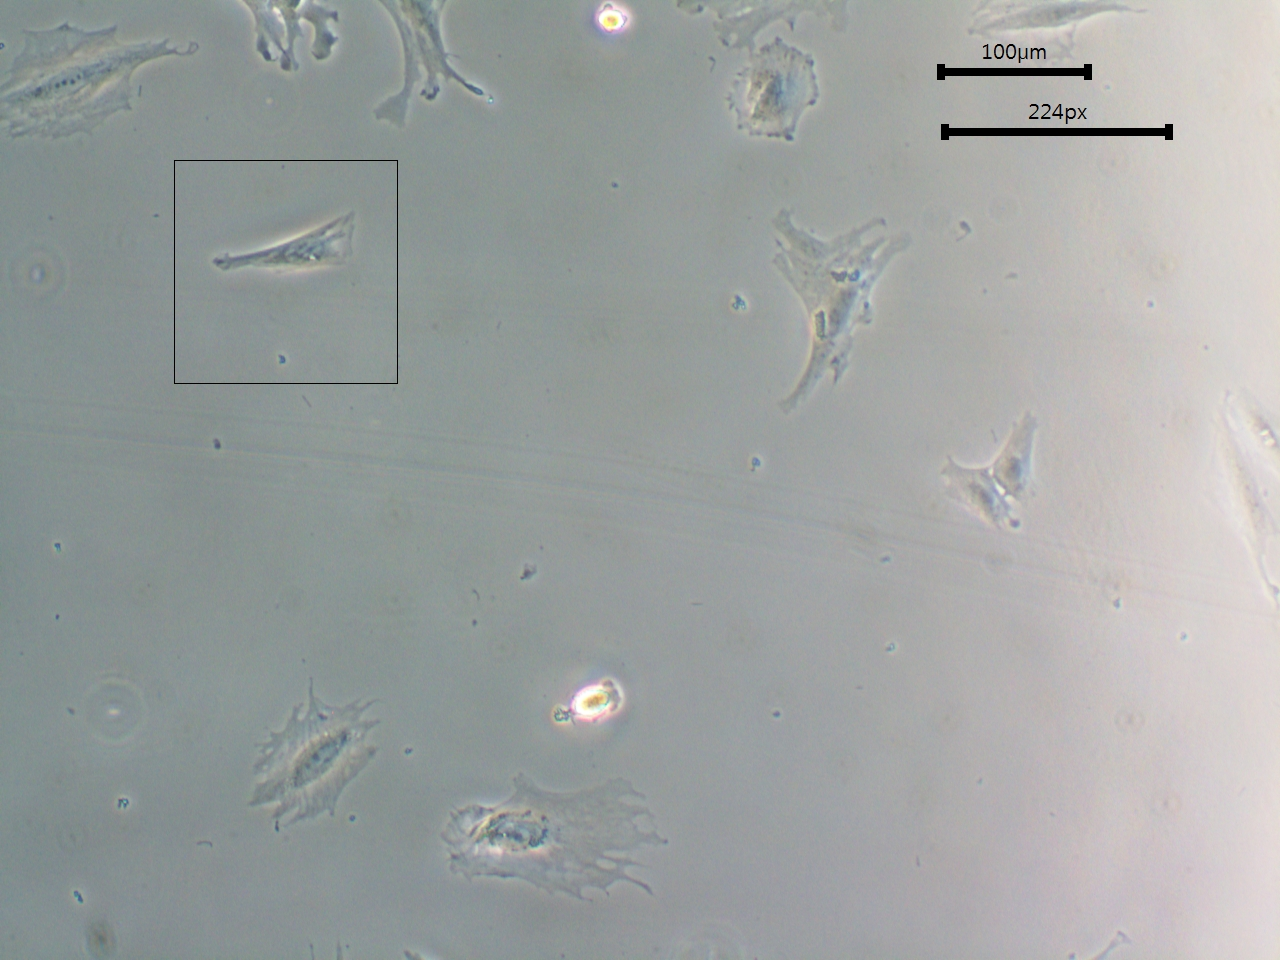large-polygonal: (1, 18, 210, 147)
large-spread: (421, 759, 690, 916)
medium-polygonal: (234, 669, 390, 842)
medium-spread: (757, 195, 922, 459)
small-polygonal: (934, 449, 1020, 534), (999, 402, 1051, 505)
small-round: (720, 39, 827, 149)
